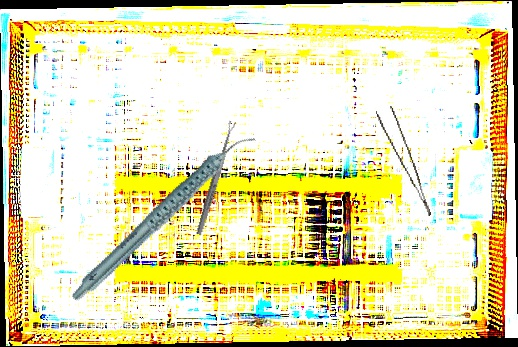Handpiece: (45, 130, 282, 305)
Surgical Spoon: (194, 120, 238, 236)
Tissue Forceps: (375, 104, 432, 222)
